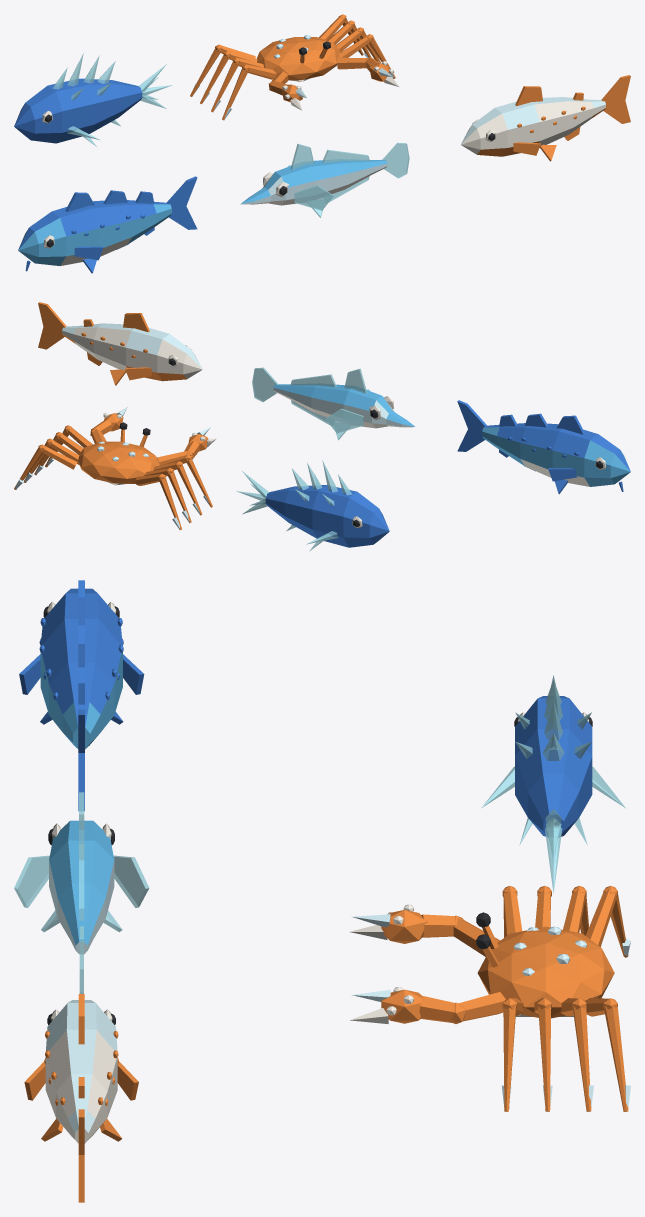
Rendered from icy-fish-set.glb.
The picture shows the model from 3 angles, top to bottom: view 1: azimuth 30°, elevation 25°; view 2: azimuth 150°, elevation 25°; view 3: azimuth 270°, elevation 25°; orthographic projection. The views are drawn at different scales.
Parts seen in each view (by area): view 1: Fish_IceCod, SnowCrab, Fish_CrystalShard, Fish_ArcticChar, Fish_Icefish, ArcticChar_Tail, IceCod_Tail, Claw_R, Icefish_Tail, Claw_L, CrystalShard_Tail; view 2: Fish_IceCod, SnowCrab, Fish_CrystalShard, Fish_ArcticChar, Fish_Icefish, ArcticChar_Tail, IceCod_Tail, Icefish_Tail, Claw_L, Claw_R, CrystalShard_Tail; view 3: SnowCrab, Fish_IceCod, Fish_CrystalShard, Fish_ArcticChar, Fish_Icefish, Claw_R, Claw_L, CrystalShard_Tail.
Boxes of the visible parts, x1,y1,x2,y2 form: Fish_IceCod: (18, 190, 171, 273); SnowCrab: (190, 14, 395, 120); Fish_CrystalShard: (14, 53, 142, 147); Fish_ArcticChar: (461, 86, 605, 161); Fish_Icefish: (240, 143, 387, 217); ArcticChar_Tail: (601, 75, 630, 123); IceCod_Tail: (166, 176, 197, 229); Claw_R: (337, 57, 399, 86); Icefish_Tail: (382, 142, 409, 178); Claw_L: (268, 71, 302, 110); CrystalShard_Tail: (138, 64, 172, 108); Fish_IceCod: (482, 413, 630, 494); SnowCrab: (14, 422, 212, 529); Fish_CrystalShard: (265, 460, 389, 551); Fish_ArcticChar: (62, 313, 202, 385); Fish_Icefish: (273, 368, 415, 440); ArcticChar_Tail: (38, 302, 66, 349); IceCod_Tail: (457, 400, 487, 451); Icefish_Tail: (252, 367, 278, 402); Claw_L: (157, 433, 216, 461); Claw_R: (90, 413, 123, 443); CrystalShard_Tail: (236, 471, 269, 514); SnowCrab: (476, 885, 630, 1111); Fish_IceCod: (19, 580, 144, 749); Fish_CrystalShard: (481, 675, 625, 845); Fish_ArcticChar: (24, 994, 138, 1143); Fish_Icefish: (14, 792, 149, 954); Claw_R: (349, 987, 505, 1024); Claw_L: (349, 904, 500, 956); CrystalShard_Tail: (545, 809, 562, 893).
Size of the model in its own units: 15.35 by 2.15 by 7.19.
